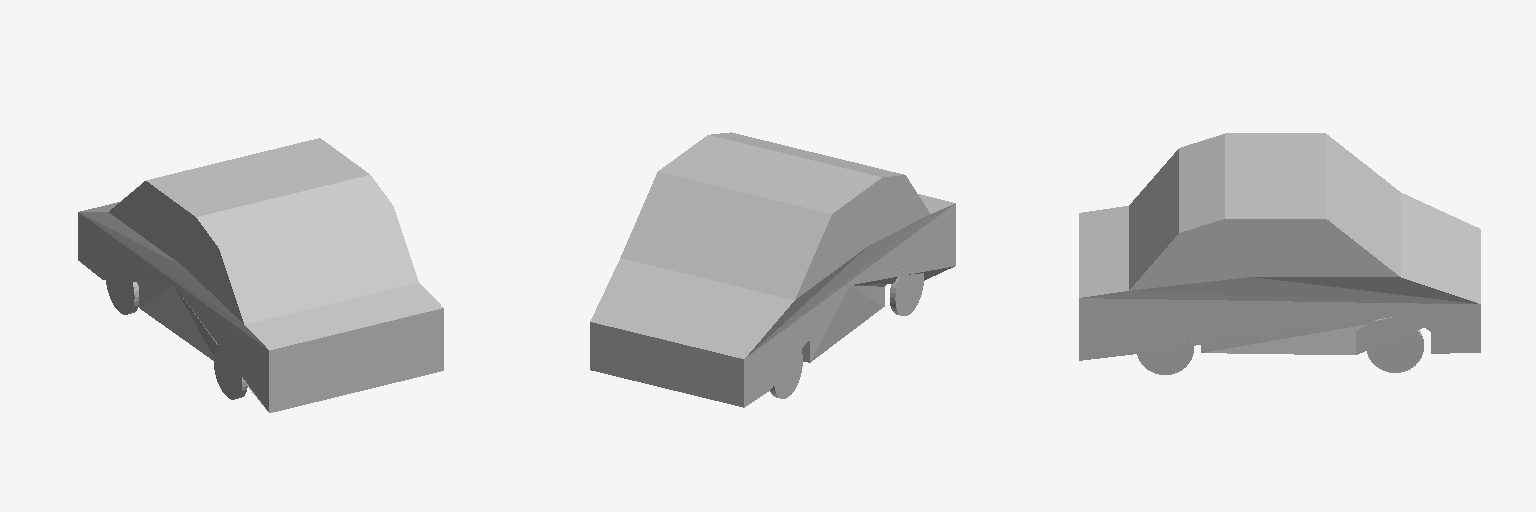
The model's file is car.obj.
3 renders of one model, left to right at view 1: azimuth 30°, elevation 25°; view 2: azimuth 150°, elevation 25°; view 3: azimuth 270°, elevation 25°, orthographic.
Parts seen in each view (by area): view 1: Cube; view 2: Cube; view 3: Cube.
Boxes of the visible parts, x1,y1,x2,y2 form: Cube: [78, 138, 443, 412]; Cube: [590, 132, 955, 407]; Cube: [1079, 133, 1480, 374].
Size of the model in its own units: 0.25 by 0.219 by 0.5.